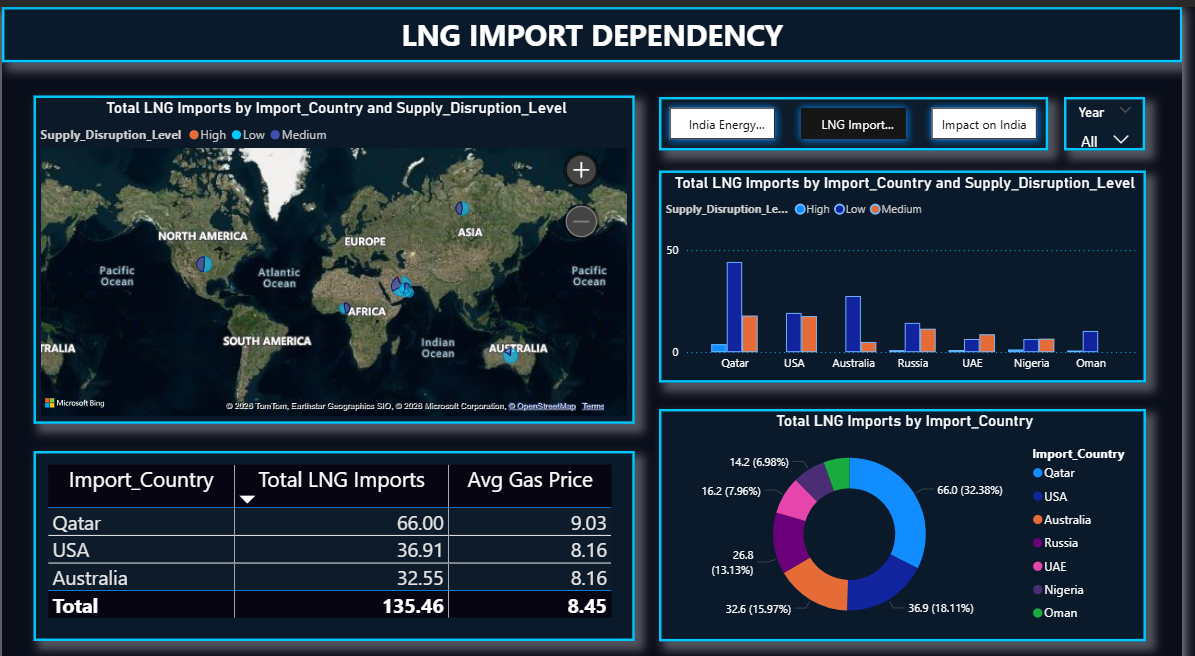

The page's visual inventory and layout, read from the dashboard file:
{"tool":"powerbi","page":{"name":"LNG Import Dependency","canvas":[1280,720],"ordinal":1},"visuals":[{"type":"textbox","box":[0,0,1280,60],"z":0},{"type":"map","fields":{"Category":["LNG_Imports_India_2019_2026.Import_Country"],"Size":["LNG_Imports_India_2019_2026.Total LNG Imports"],"Series":["LNG_Imports_India_2019_2026.Supply_Disruption_Level"]},"box":[34,96,652,356],"z":1000},{"type":"clusteredColumnChart","fields":{"Category":["LNG_Imports_India_2019_2026.Import_Country"],"Y":["LNG_Imports_India_2019_2026.Total LNG Imports"],"Series":["LNG_Imports_India_2019_2026.Supply_Disruption_Level"]},"box":[712,178,528,230],"z":2000},{"type":"donutChart","fields":{"Category":["LNG_Imports_India_2019_2026.Import_Country"],"Y":["LNG_Imports_India_2019_2026.Total LNG Imports"]},"box":[712,436,528,252],"z":3000},{"type":"tableEx","fields":{"Values":["LNG_Imports_India_2019_2026.Import_Country","LNG_Imports_India_2019_2026.Total LNG Imports","LNG_Imports_India_2019_2026.Avg Gas Price"]},"box":[34,482,652,206],"z":4000},{"type":"pageNavigator","box":[712,98,422,58],"z":5000},{"type":"slicer","fields":{"Values":["LNG_Imports_India_2019_2026.Year"]},"box":[1152,98,88,58],"z":6000}]}

Visuals, with their boxes in screenshot pixels (x1, y1, x2, y2), scaled from the page's 1280x720 canvas onto the 1195x656 screenshot:
textbox: left=0, top=0, right=1194, bottom=55
map - LNG_Imports_India_2019_2026.Import_Country x LNG_Imports_India_2019_2026.Total LNG Imports: left=32, top=87, right=640, bottom=412
clusteredColumnChart - LNG_Imports_India_2019_2026.Import_Country x LNG_Imports_India_2019_2026.Total LNG Imports: left=665, top=162, right=1158, bottom=372
donutChart - LNG_Imports_India_2019_2026.Import_Country x LNG_Imports_India_2019_2026.Total LNG Imports: left=665, top=397, right=1158, bottom=627
tableEx - LNG_Imports_India_2019_2026.Import_Country x LNG_Imports_India_2019_2026.Total LNG Imports: left=32, top=439, right=640, bottom=627
pageNavigator: left=665, top=89, right=1059, bottom=142
slicer - LNG_Imports_India_2019_2026.Year: left=1076, top=89, right=1158, bottom=142
